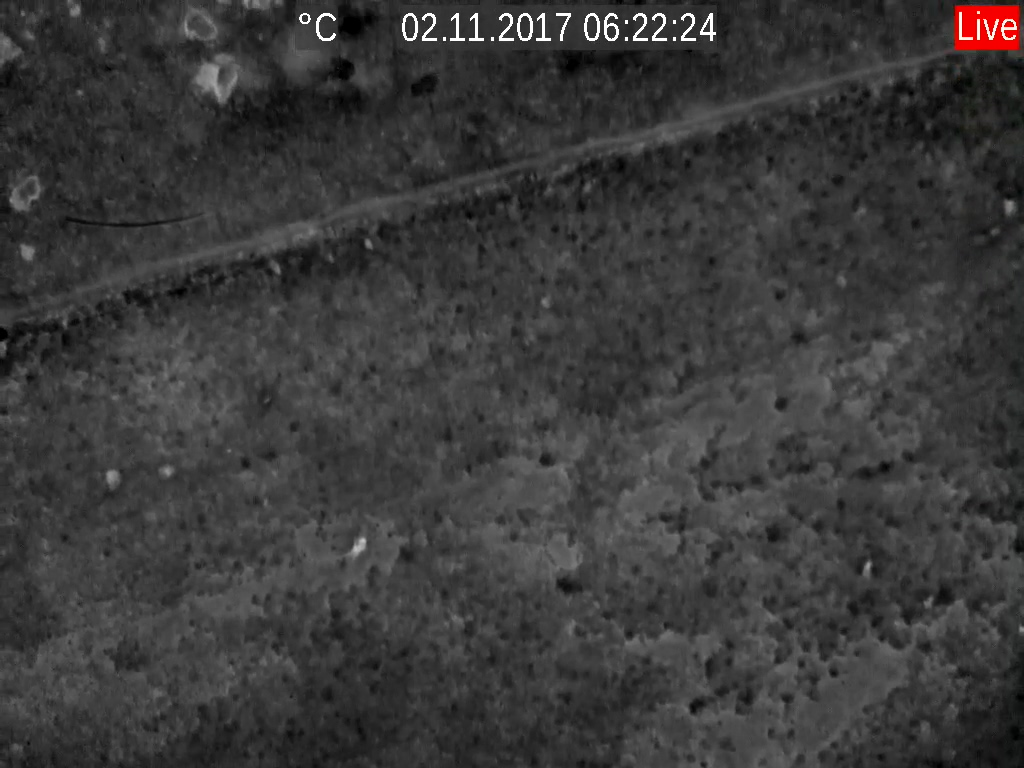warren: (343, 528, 375, 564), (99, 463, 123, 494), (263, 254, 290, 279), (858, 552, 878, 585)
